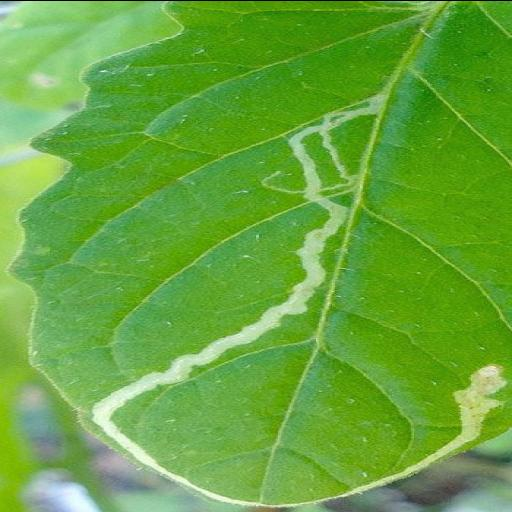disease_tomato: (7, 0, 512, 511)
